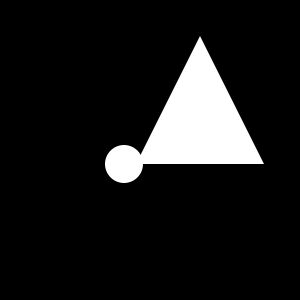rectangle: (105, 145, 143, 183)
triangle: (136, 36, 264, 164)
